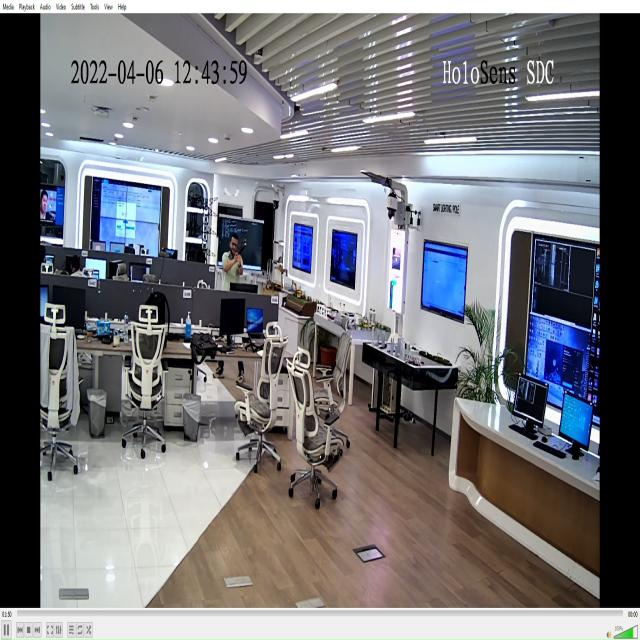long weapon: (234, 238, 247, 264)
